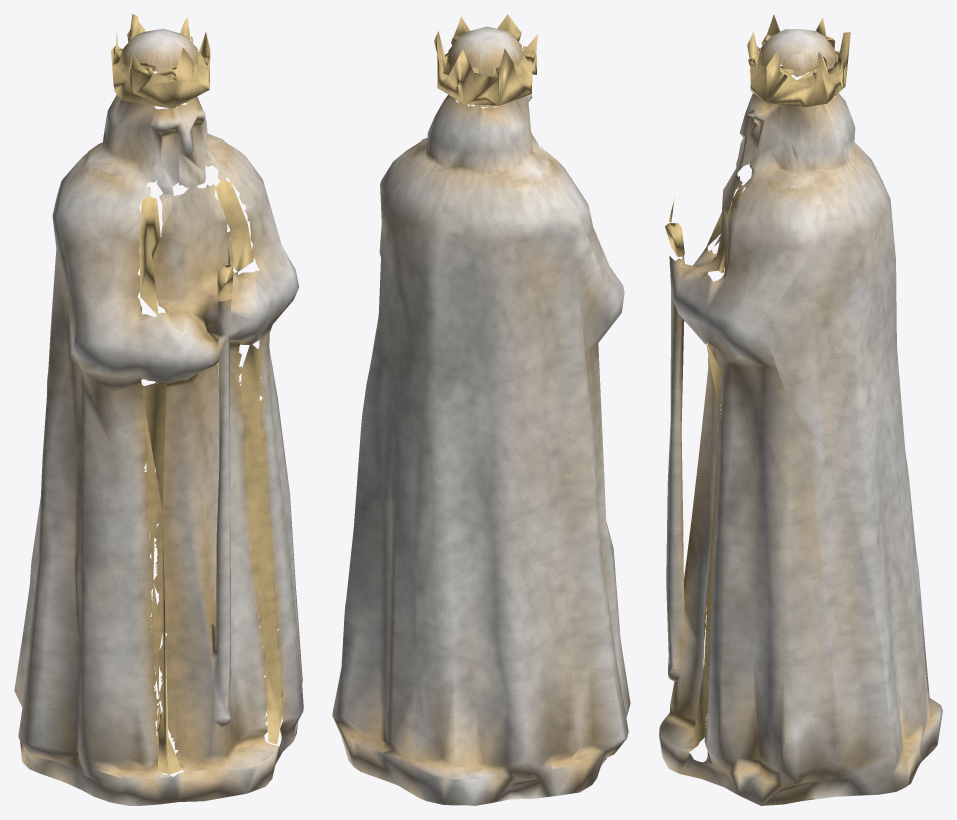
The model's file is Argent_Reliquary_White_King.glb.
3 views of the same model, side by side, from view 1: azimuth 30°, elevation 25°; view 2: azimuth 150°, elevation 25°; view 3: azimuth 270°, elevation 25° (orthographic).
Visible parts, largest first — view 1: Argent Reliquary – White King; view 2: Argent Reliquary – White King; view 3: Argent Reliquary – White King.
Boxes of the visible parts, bbox=[...] form: Argent Reliquary – White King: bbox=[14, 14, 303, 805]; Argent Reliquary – White King: bbox=[332, 14, 630, 805]; Argent Reliquary – White King: bbox=[659, 14, 942, 805].
Bounding box in the file's own units: 0.0383 × 0.0955 × 0.0341.
2 materials, 2 textured.
